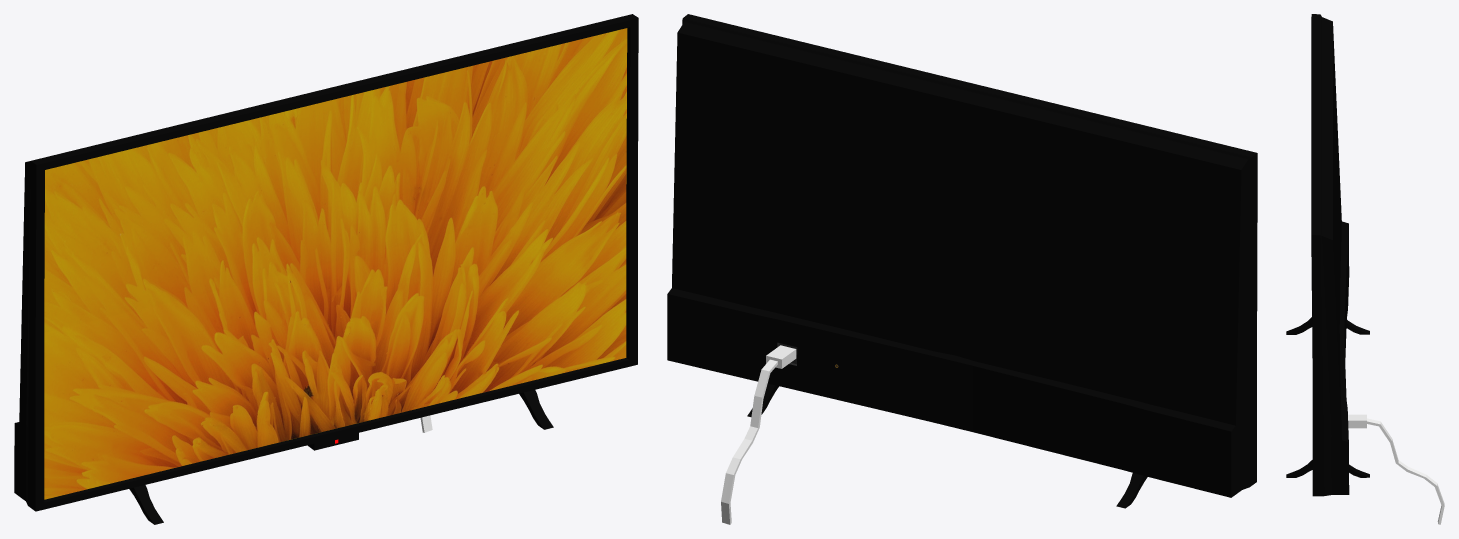
3 views of the same model, side by side, from view 1: azimuth 30°, elevation 25°; view 2: azimuth 150°, elevation 25°; view 3: azimuth 270°, elevation 25° (orthographic). The views are drawn at different scales.
Parts seen in each view (by area): view 1: Cube; view 2: Cube; view 3: Cube.
Boxes of the visible parts, x1=… form: Cube: x1=14, y1=14, x2=638, y2=524; Cube: x1=667, y1=14, x2=1257, y2=524; Cube: x1=1286, y1=14, x2=1444, y2=524.
Bounding box in the file's own units: 8.78 × 6.21 × 2.66.
Materials: 7 (1 with a texture image).
